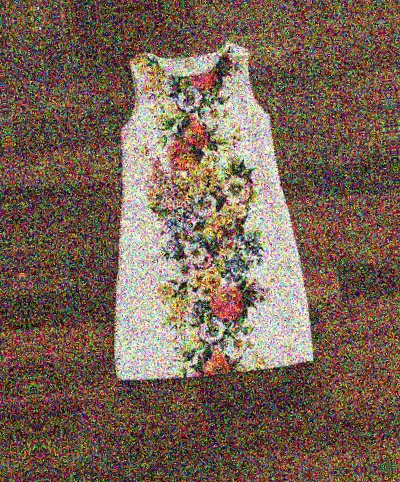Dress: (50, 16, 357, 420)
